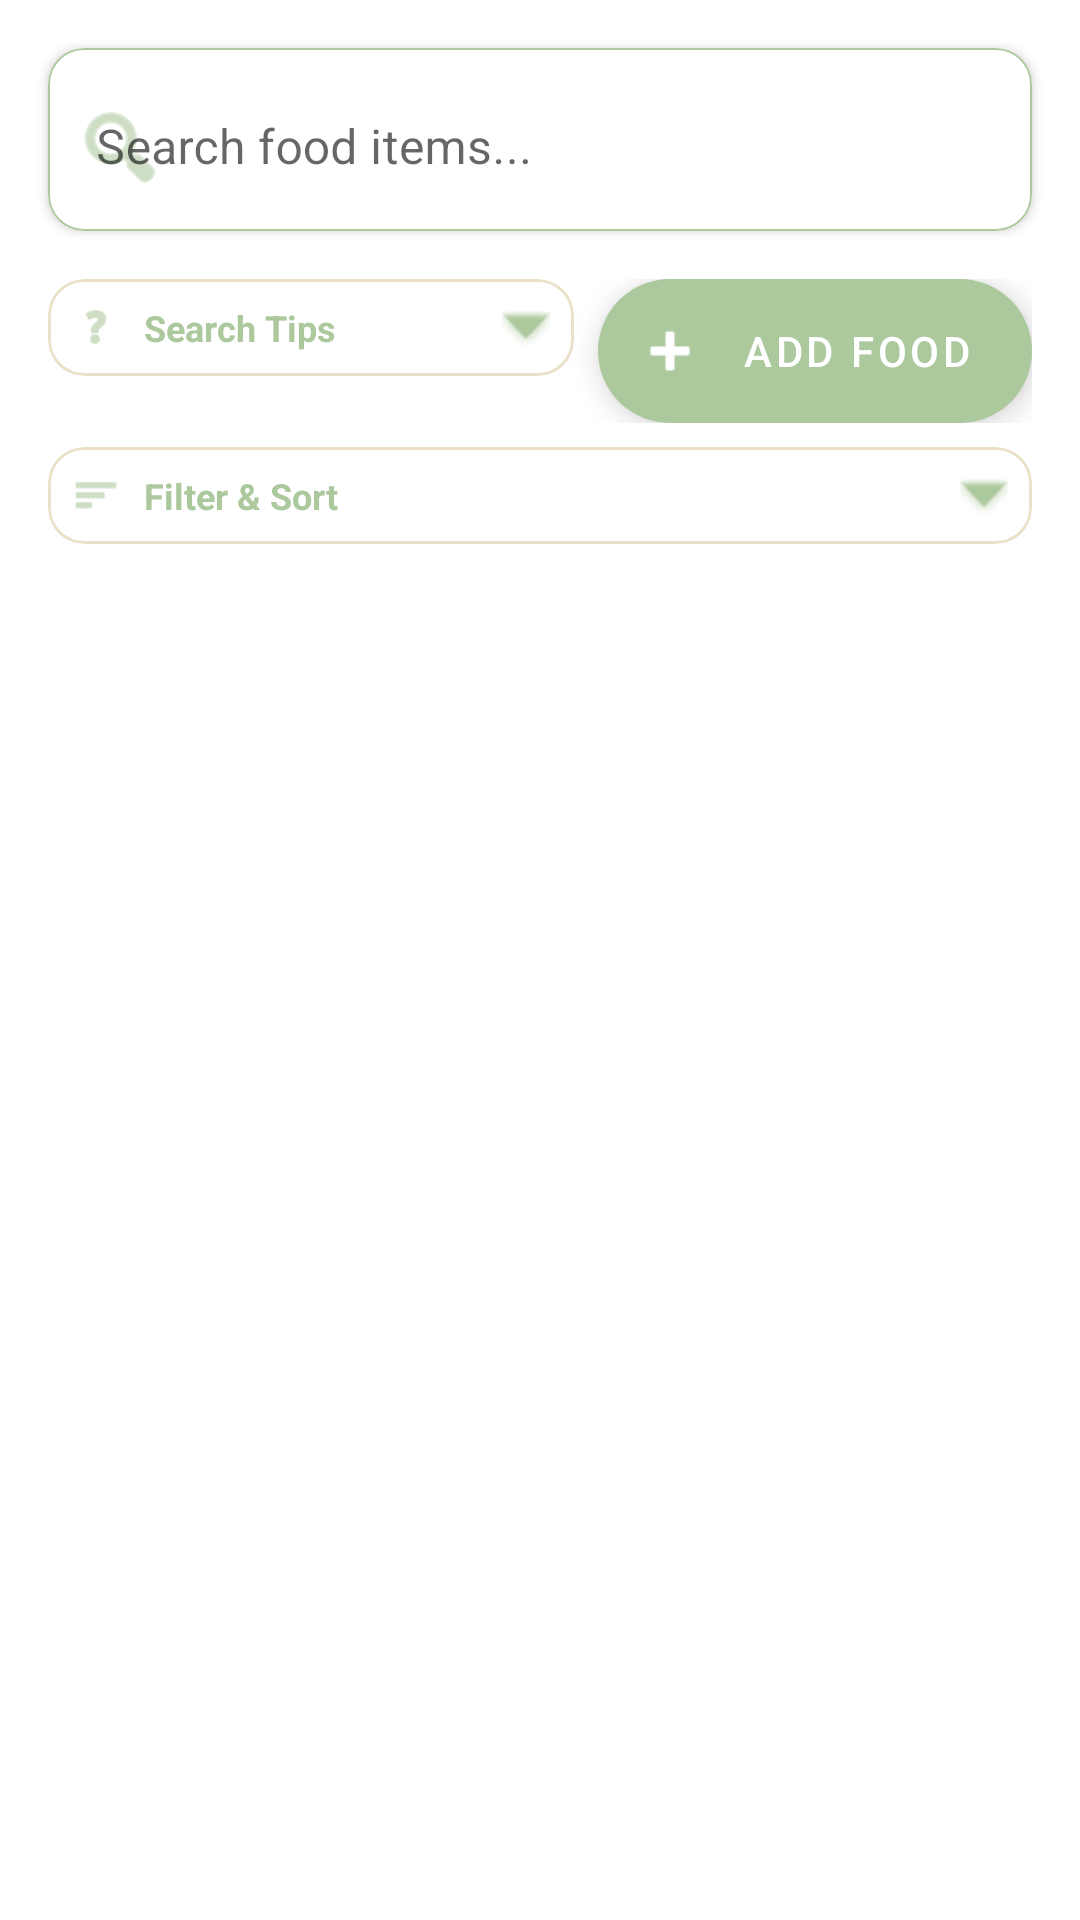

Where icons sit on this 1080*1920 app screen, as [x1=x1, y1=y1, x2=x2, y2=y2]:
arrow down float: [x1=502, y1=313, x2=550, y2=340], [x1=960, y1=481, x2=1008, y2=508]
help: [x1=86, y1=310, x2=106, y2=344]
sort by size: [x1=76, y1=482, x2=116, y2=509]
